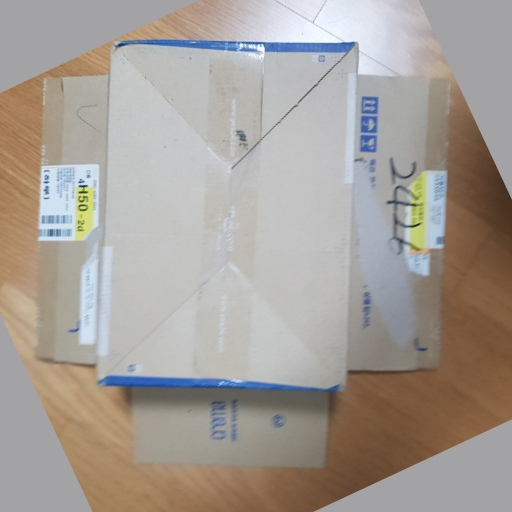Paper_0: (33, 37, 456, 471)
